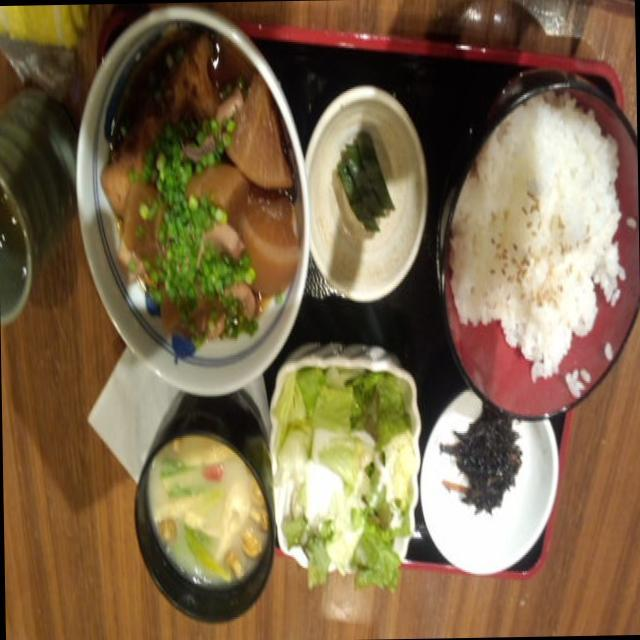Rice: (448, 116, 620, 376)
